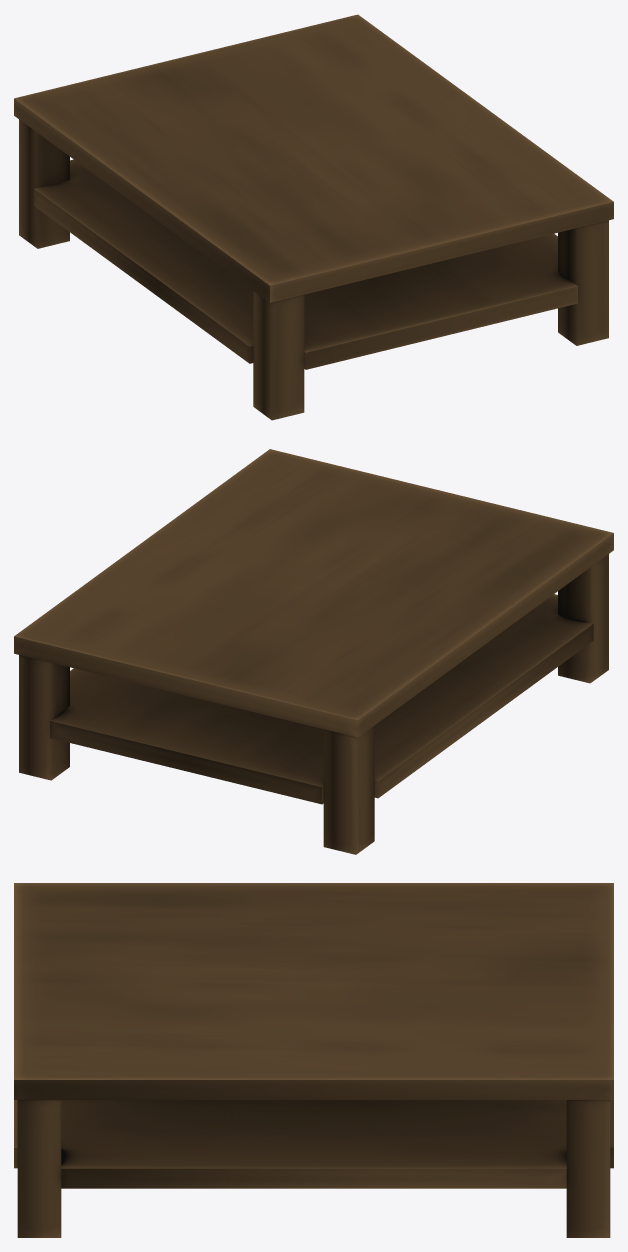
Rendered from Table.fbx.
The picture shows the model from 3 angles, top to bottom: view 1: azimuth 30°, elevation 25°; view 2: azimuth 150°, elevation 25°; view 3: azimuth 270°, elevation 25°; orthographic projection. The views are drawn at different scales.
Visible parts, largest first — view 1: U_Table; view 2: U_Table; view 3: U_Table.
Boxes of the visible parts, x1,y1,x2,y2 form: U_Table: (14,14,613,420); U_Table: (14,449,613,854); U_Table: (14,883,613,1237).
Bounding box in the file's own units: 189 × 71.88 × 244.
1 material, 1 textured.
